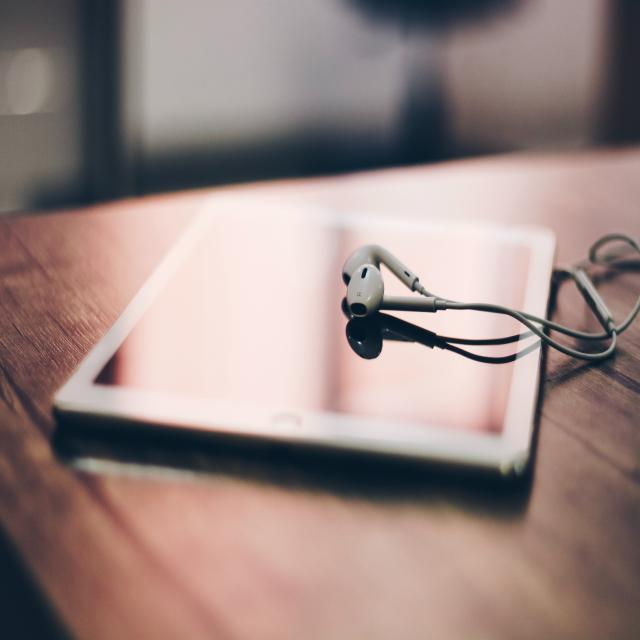Earphone: (341, 224, 640, 364)
